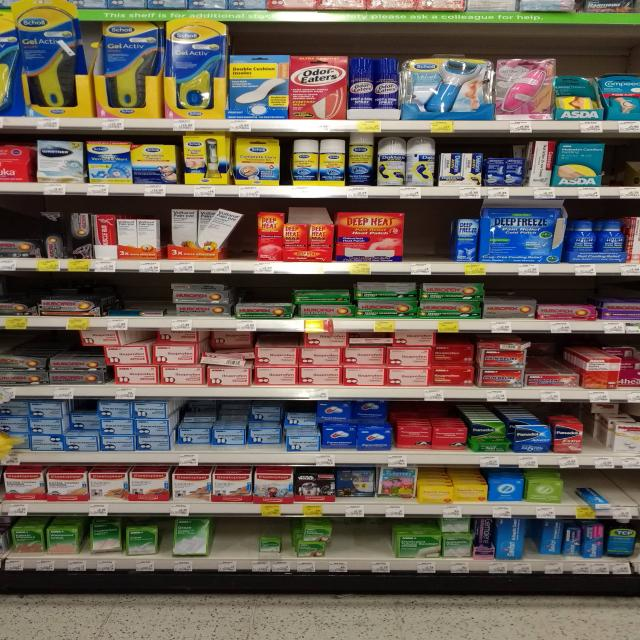100- O.O.S: (408, 206, 447, 274), (216, 517, 251, 571), (362, 522, 392, 572), (223, 222, 250, 272), (333, 522, 359, 571), (611, 472, 638, 518), (586, 420, 606, 468), (564, 471, 582, 517)
